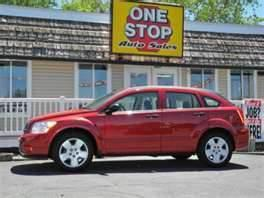Car: (12, 85, 255, 179)
